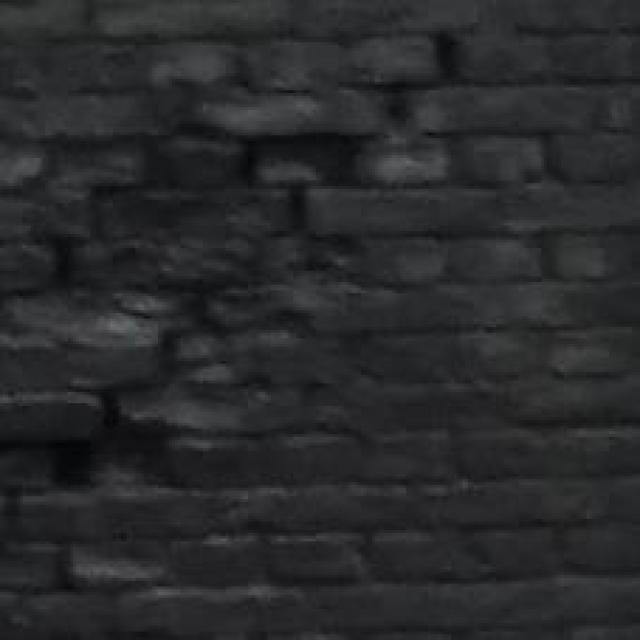Crack: (0, 20, 445, 574)
